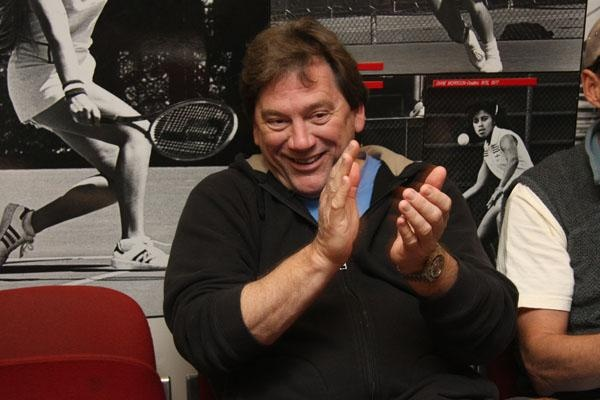person without safety: (162, 10, 498, 400)
